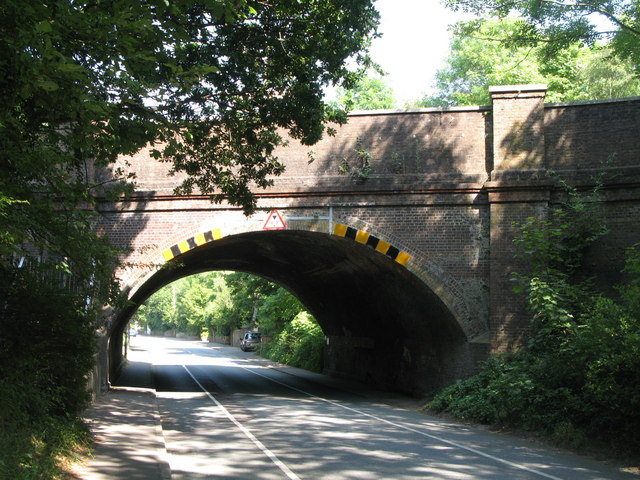bridge: (87, 82, 640, 343)
